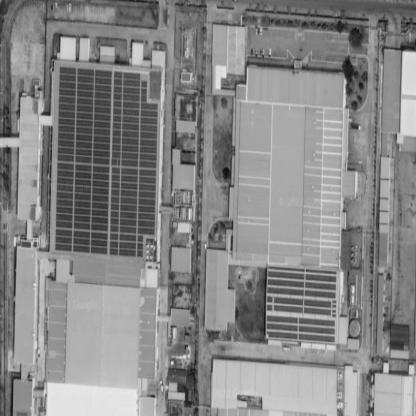solar-pv-panel: (55, 67, 158, 258), (266, 266, 336, 342)
